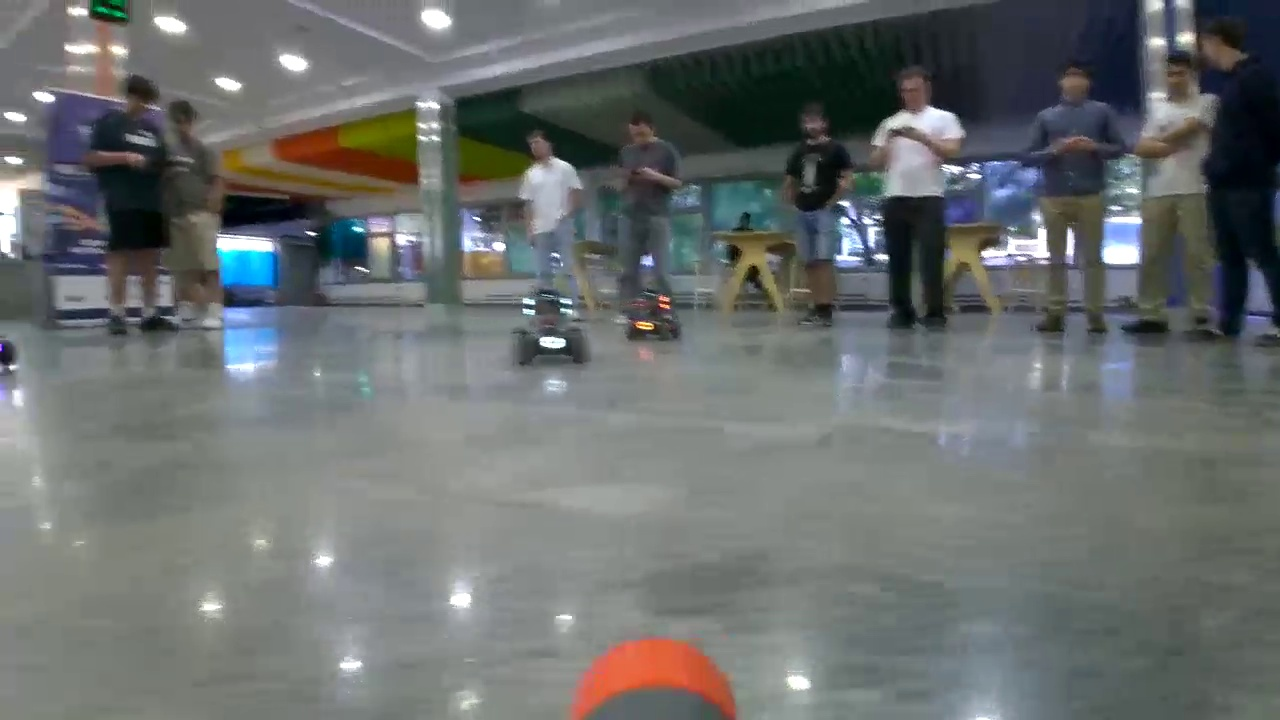robot: (511, 289, 592, 364), (628, 290, 680, 338)
